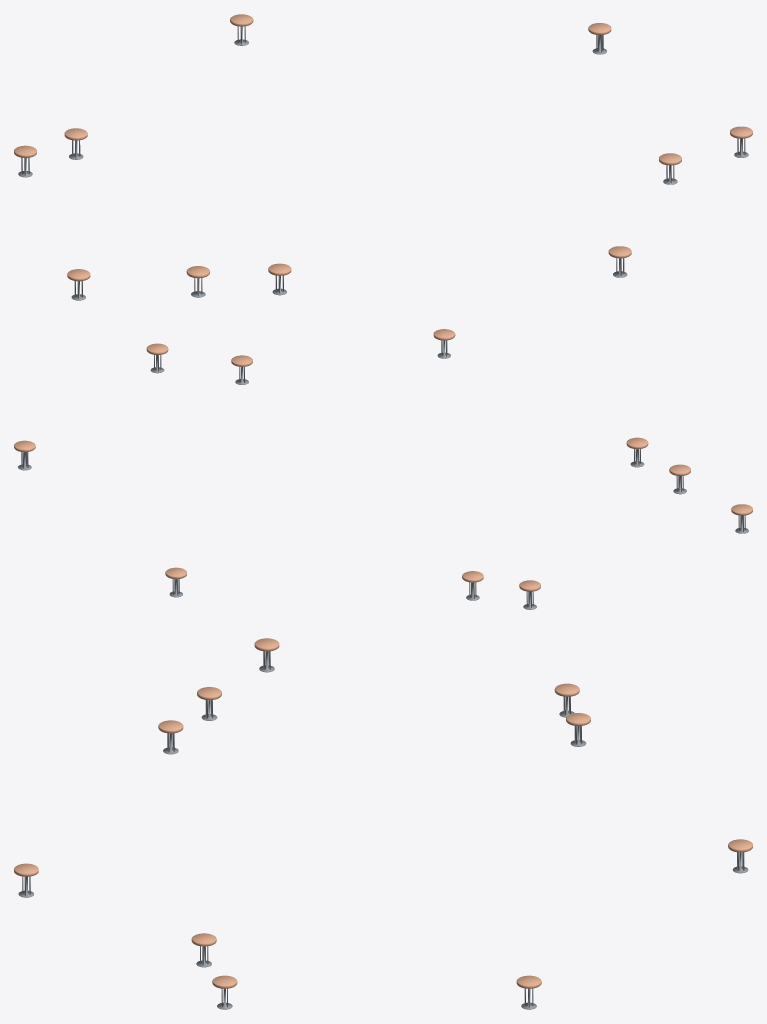
Rendered from Stools.glb.
3 views of the same model, one above another, from view 1: azimuth 30°, elevation 25°; view 2: azimuth 150°, elevation 25°; view 3: azimuth 270°, elevation 25° (orthographic). The views are drawn at different scales.
Size of what is drawn, in the model's own units: 16.54 by 0.5692 by 14.85.
2 materials, 1 textured.
